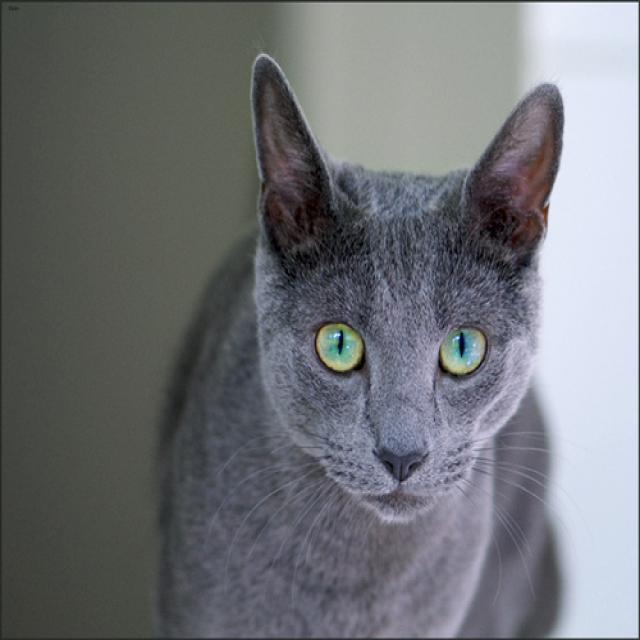Russian_Blue: (249, 51, 564, 519)
